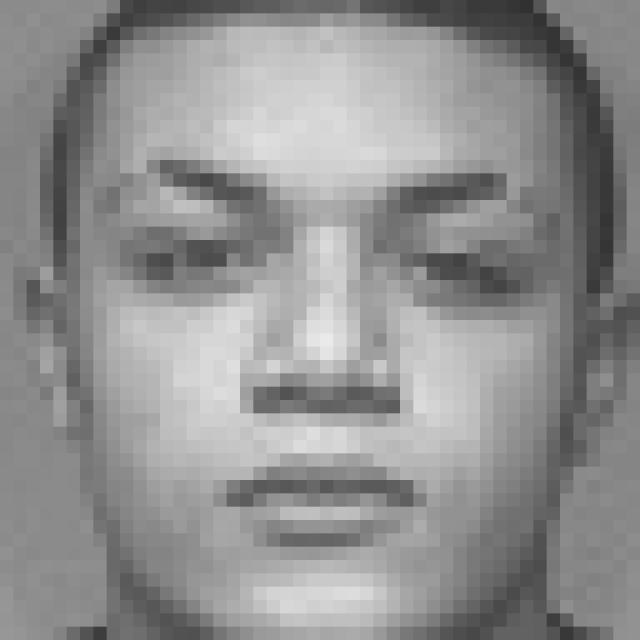neutral: (93, 147, 556, 552)
